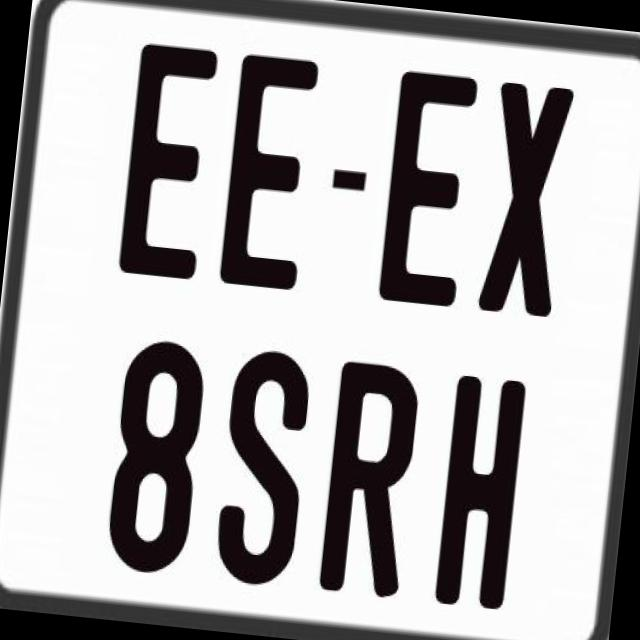8: (100, 332, 206, 578)
E: (117, 38, 225, 284), (374, 69, 482, 307), (218, 49, 324, 288)
H: (434, 374, 531, 608)
R: (316, 358, 421, 598)
S: (212, 343, 322, 594)
X: (474, 81, 572, 318)
